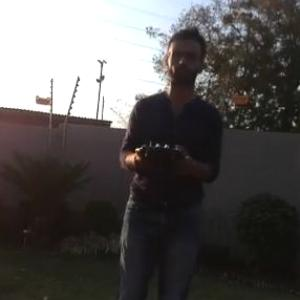follow: (111, 24, 226, 299)
